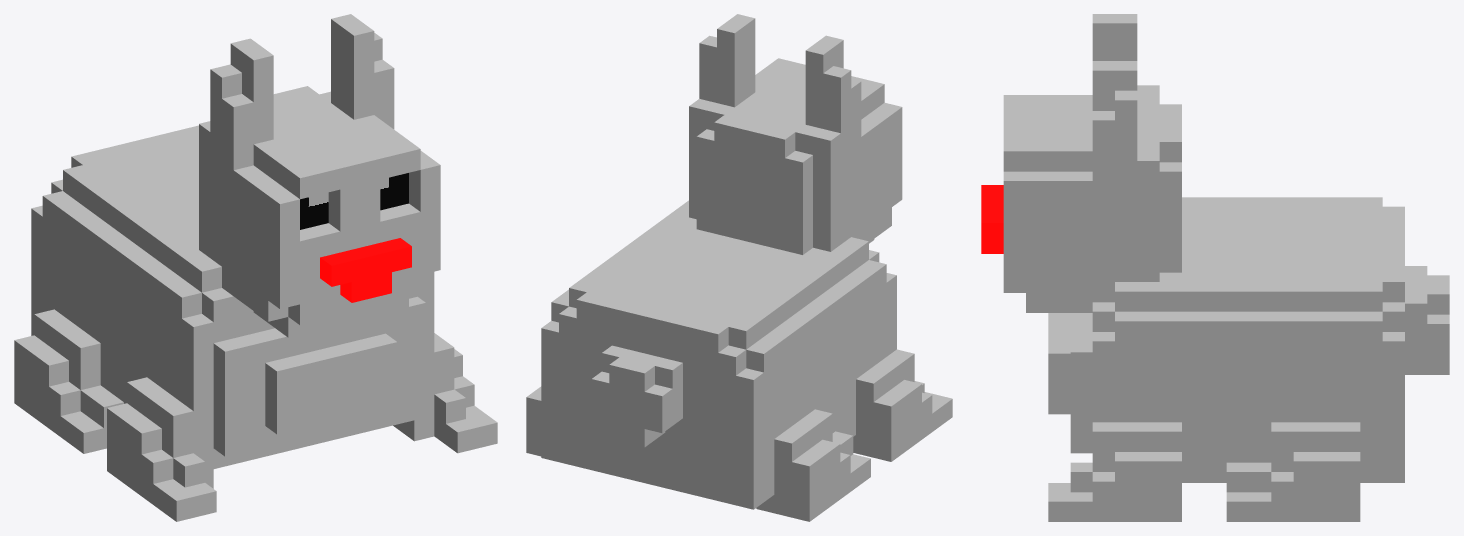
File: Bunny.dae
3 renders of one model, left to right at view 1: azimuth 30°, elevation 25°; view 2: azimuth 150°, elevation 25°; view 3: azimuth 270°, elevation 25°, orthographic. The views are drawn at different scales.
Parts seen in each view (by area): view 1: Bunny; view 2: Bunny; view 3: Bunny.
Boxes of the visible parts, x1,y1,x2,y2 form: Bunny: [14, 14, 497, 521]; Bunny: [526, 14, 952, 521]; Bunny: [981, 14, 1449, 521].
Bounding box in the file's own units: 16 × 20 × 21.
Materials: 1 (1 with a texture image).
